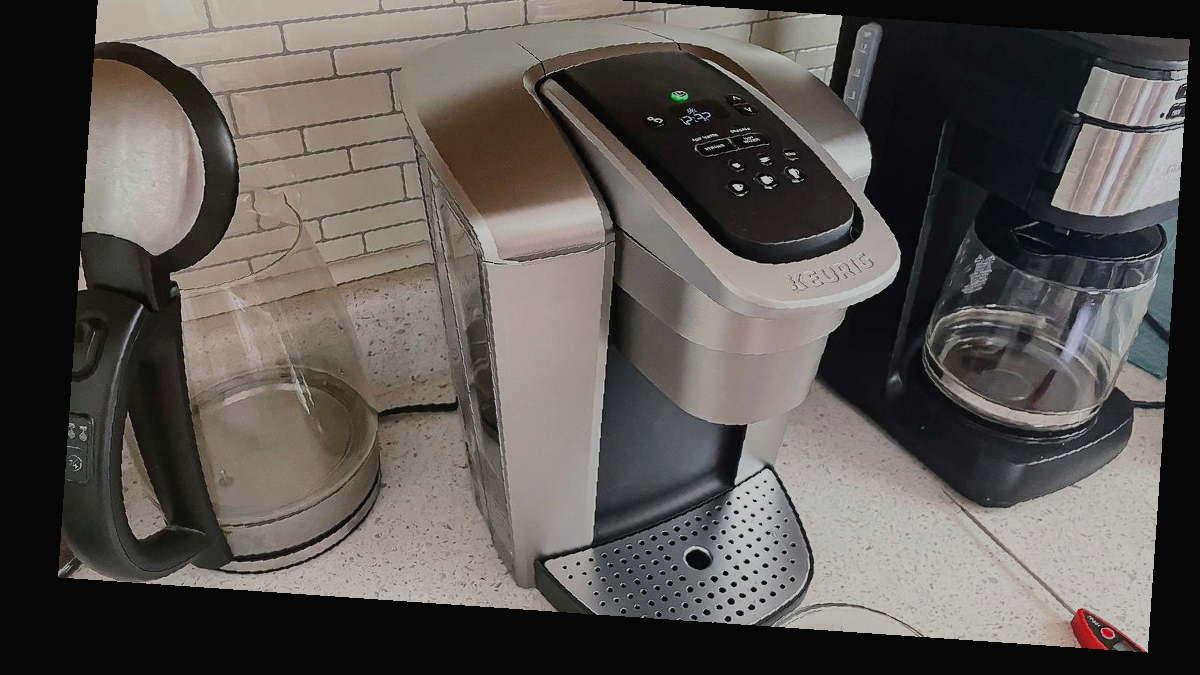10oz: (753, 170, 781, 191)
12oz: (783, 165, 809, 186)
4oz: (727, 158, 747, 172)
6oz: (756, 152, 776, 167)
8oz: (721, 178, 751, 199)
add_water: (687, 122, 722, 147)
coffee_handle: (778, 255, 921, 331)
descale: (726, 113, 761, 138)
hot: (730, 126, 770, 153)
iced: (781, 148, 801, 162)
platform: (674, 536, 721, 581)
power: (668, 90, 690, 102)
strong: (694, 134, 734, 162)
water_handle: (490, 234, 609, 272)
